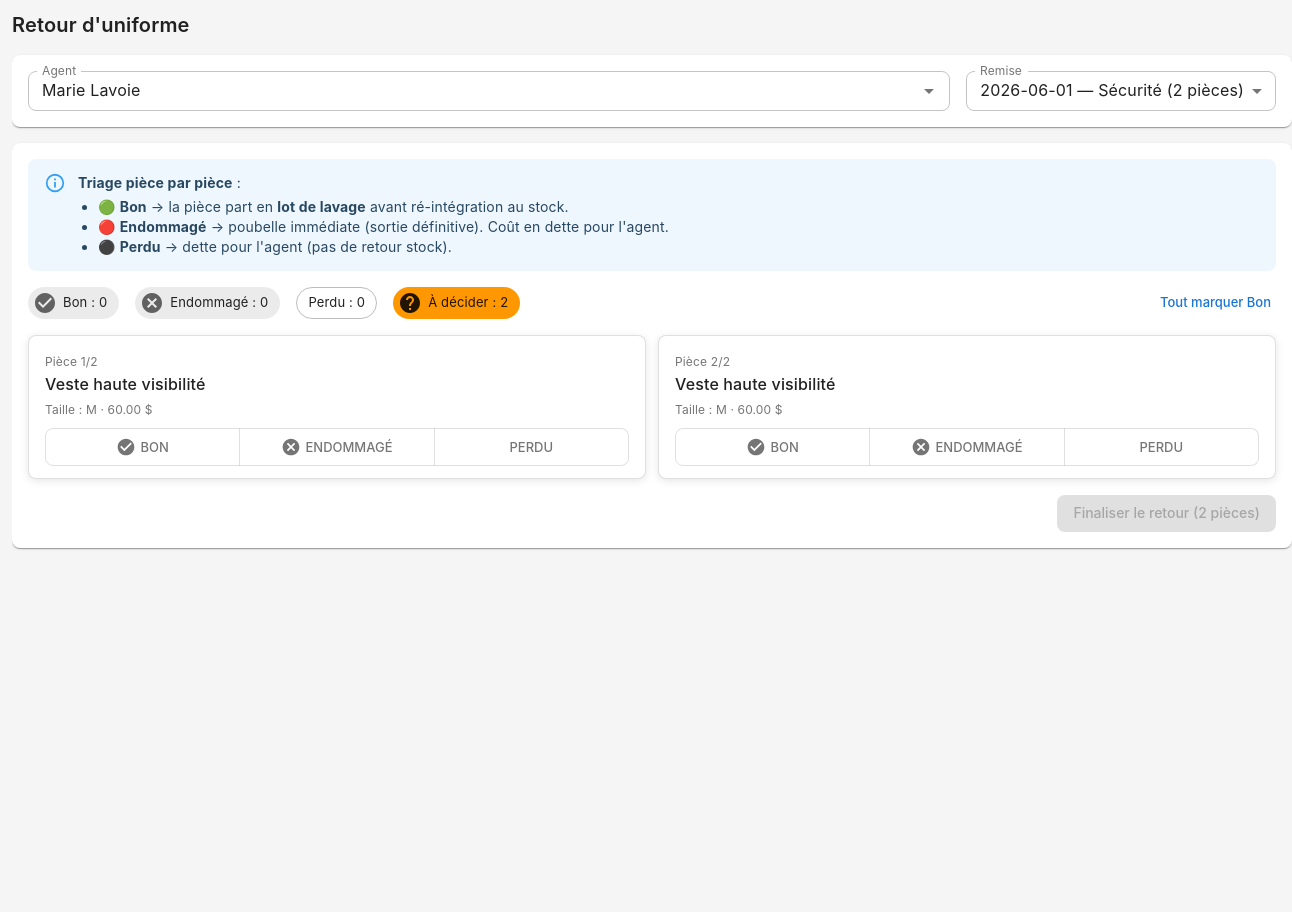
UniformReturnsPage › affiche le message serveur de l'enveloppe ApiError quand la finalisation échoue
Check: the dropdown showing "Marie Lavoie" is shown, box [34,77,885,105]
Step 1. Click the dropdown named "remise" → (1112,90), box [980,80,1244,100]
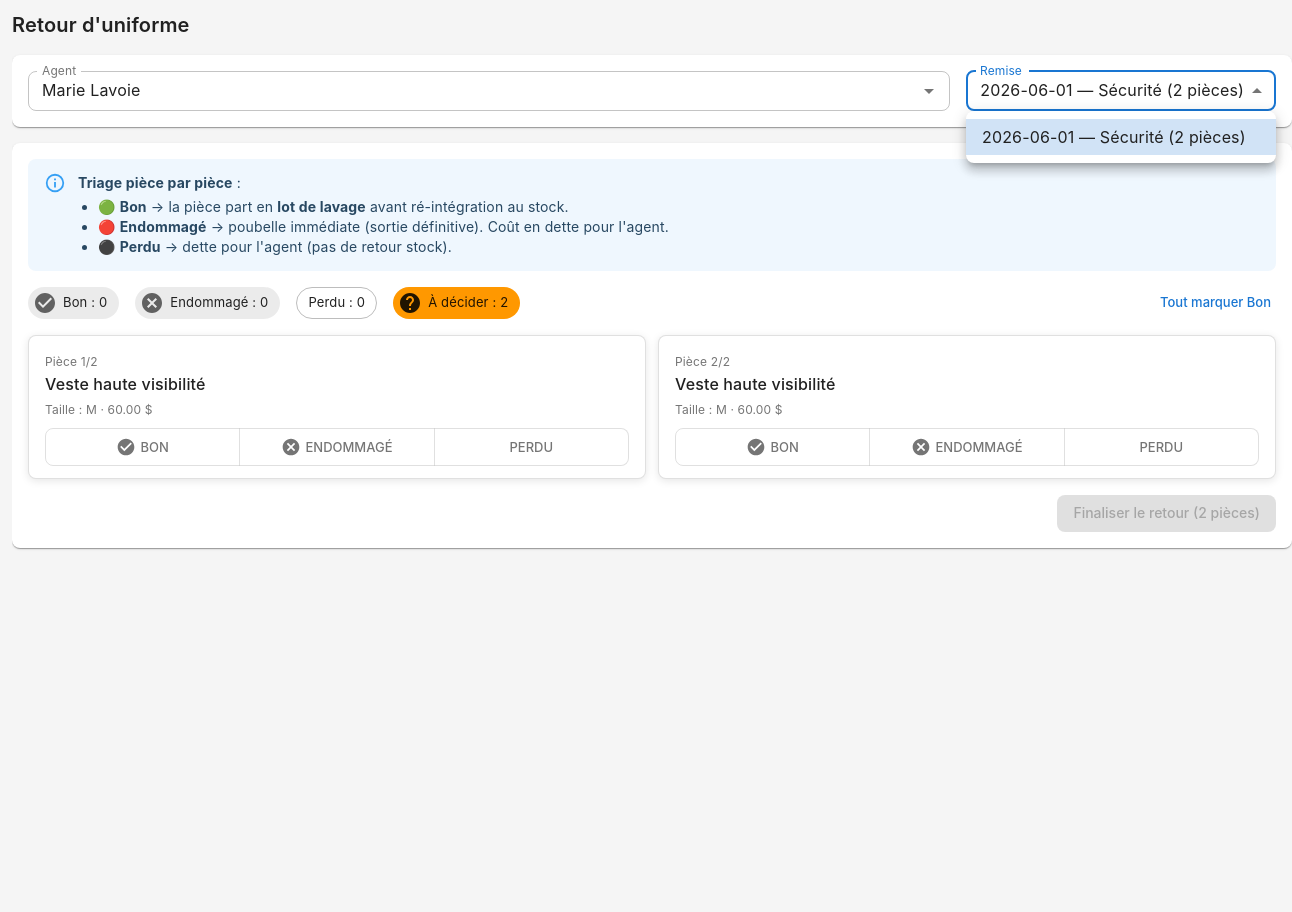
Step 2. Click the option "2026-06-01 — Sécurité (2 pièces)" → (1121,137), box [966,119,1276,155]
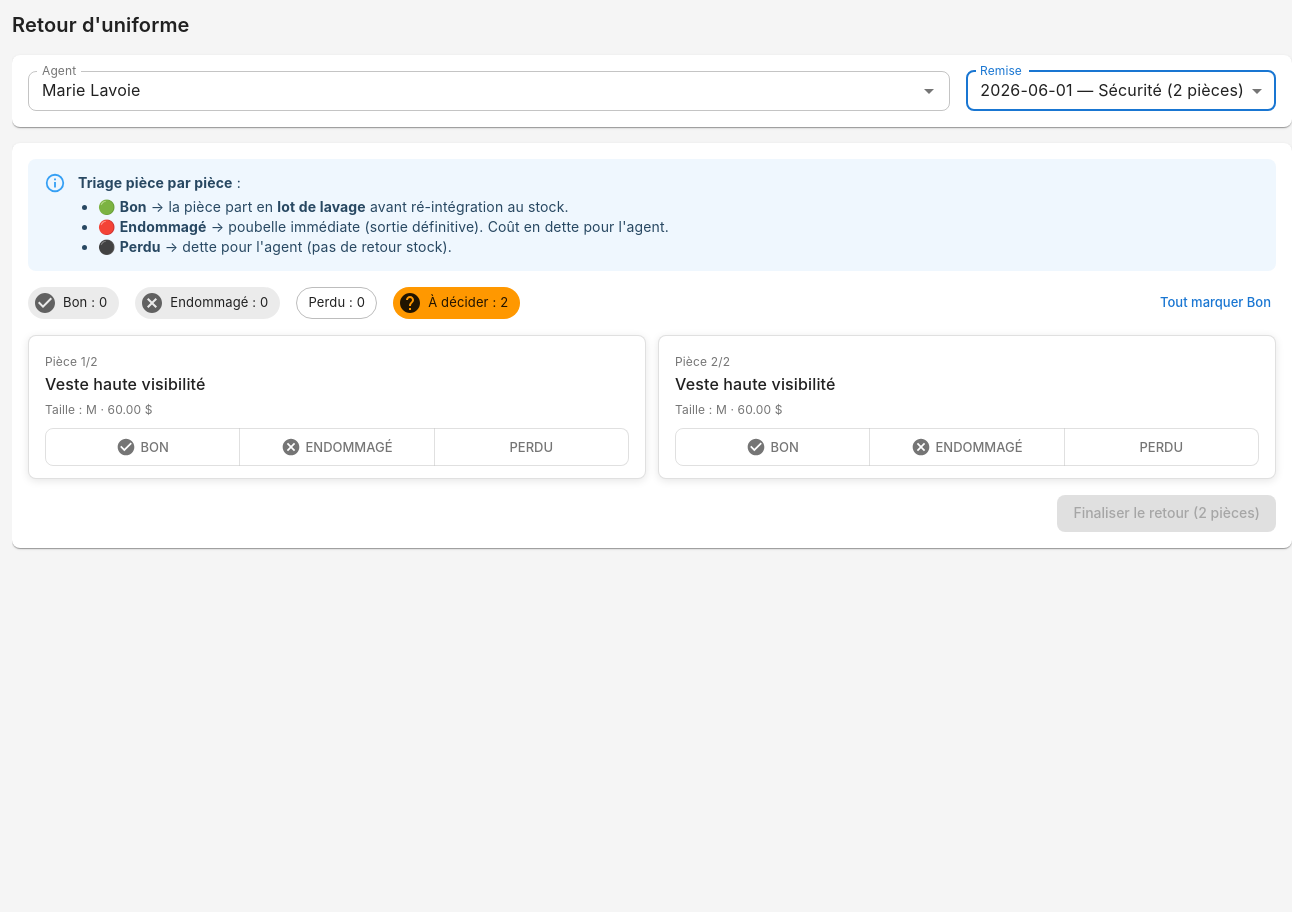
Check: the text "Pièce 1/2" is shown, box [45,354,98,369]
Step 3. Click the button "Tout marquer Bon" → (1216,303), box [1155,287,1276,318]
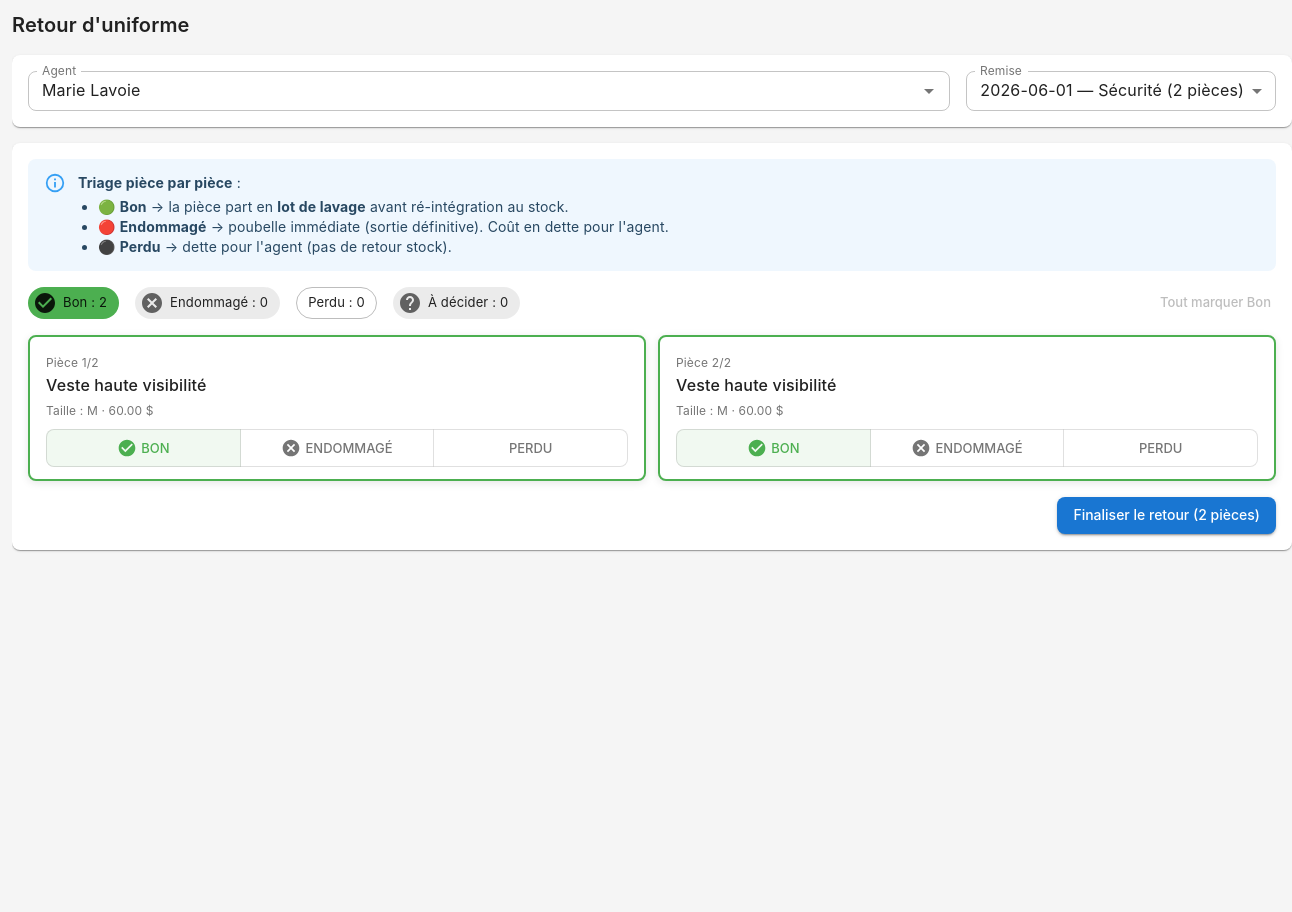
Step 4. Click the button "Finaliser le retour (2 pièces)" → (1167,516), box [1057,498,1276,534]
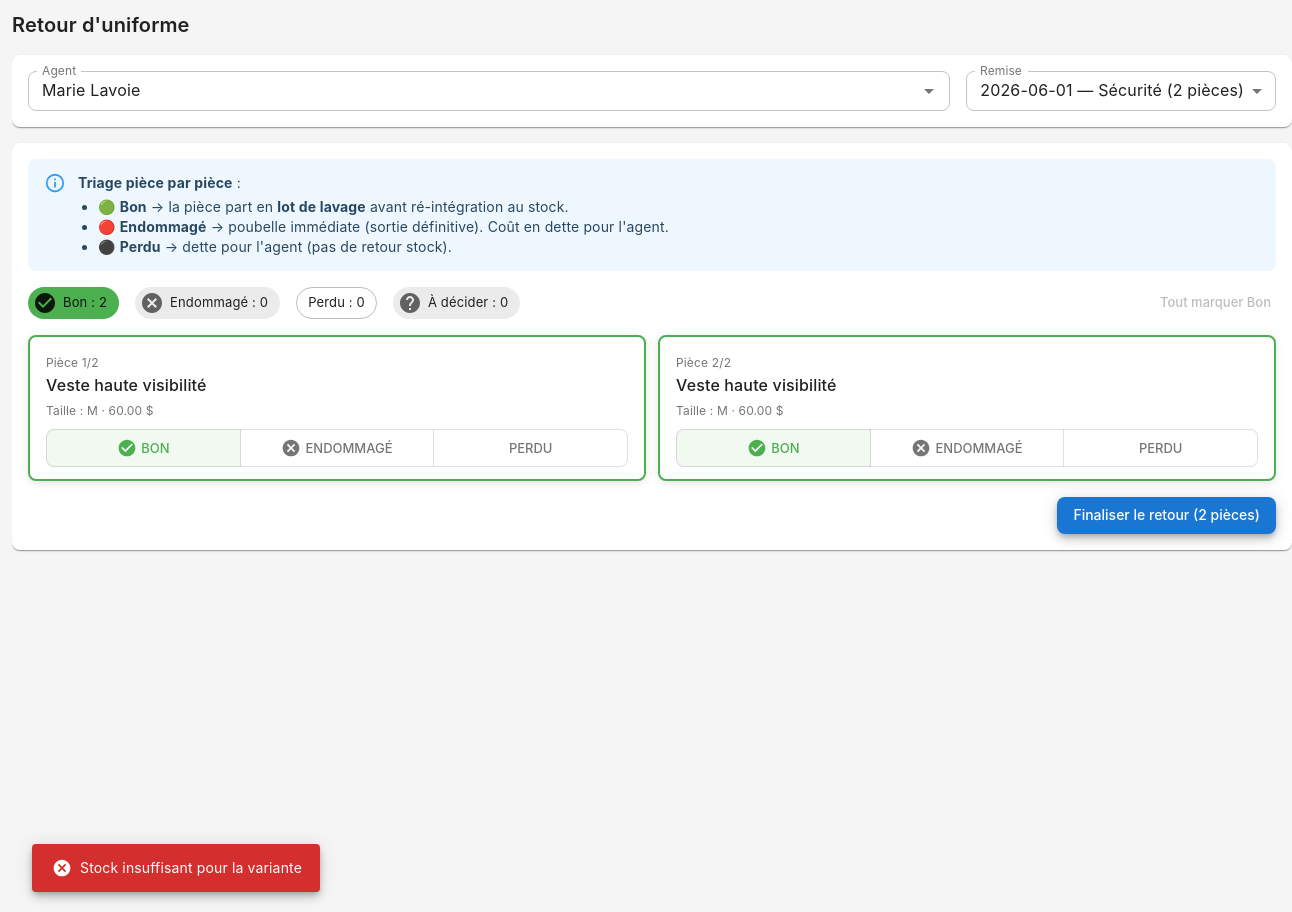
Check: the text "Stock insuffisant pour la variante" is shown, box [52,858,302,878]
